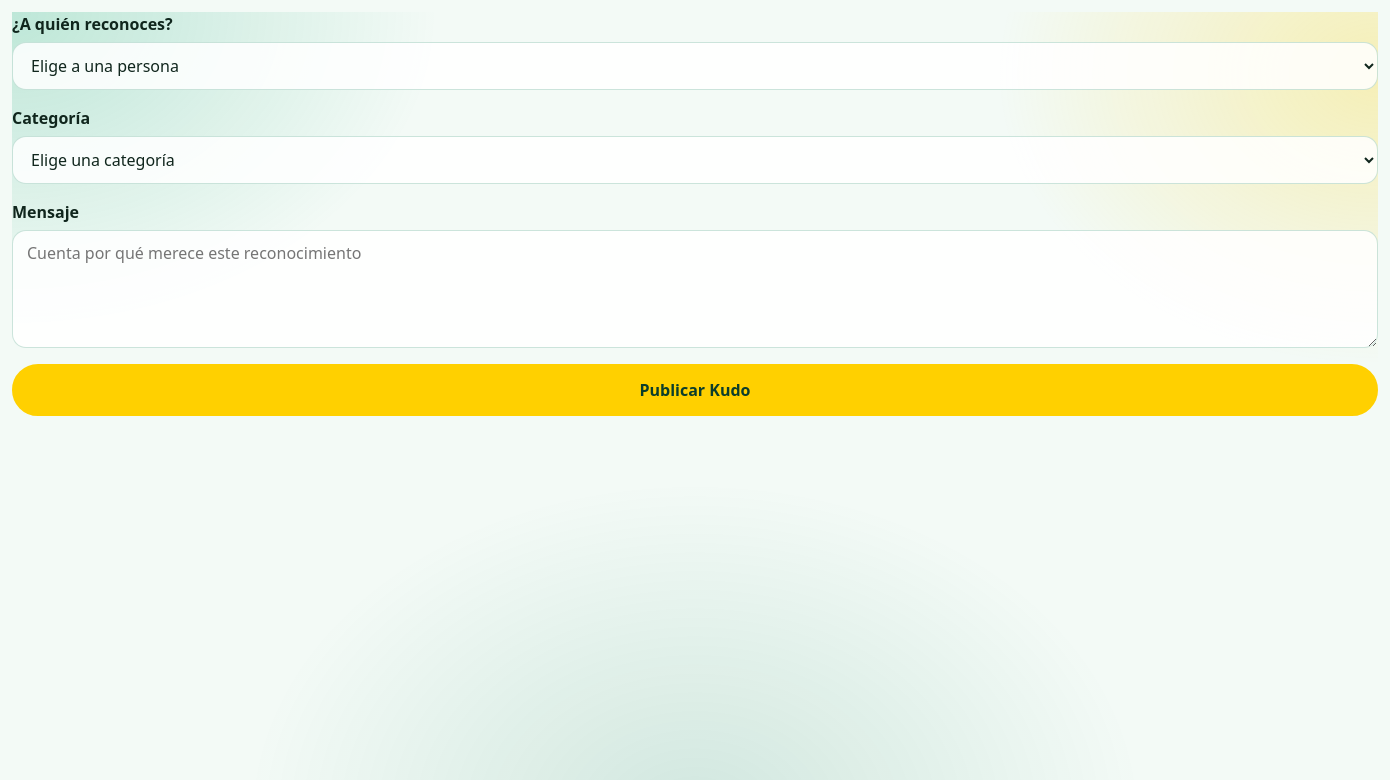
FormularioDePublicacion › da un mensaje general si la API rechaza con un motivo desconocido
Select "Beto Estudiante" in the dropdown labelled "¿A quién reconoces?" at (695, 66), box [12,42,1378,90]
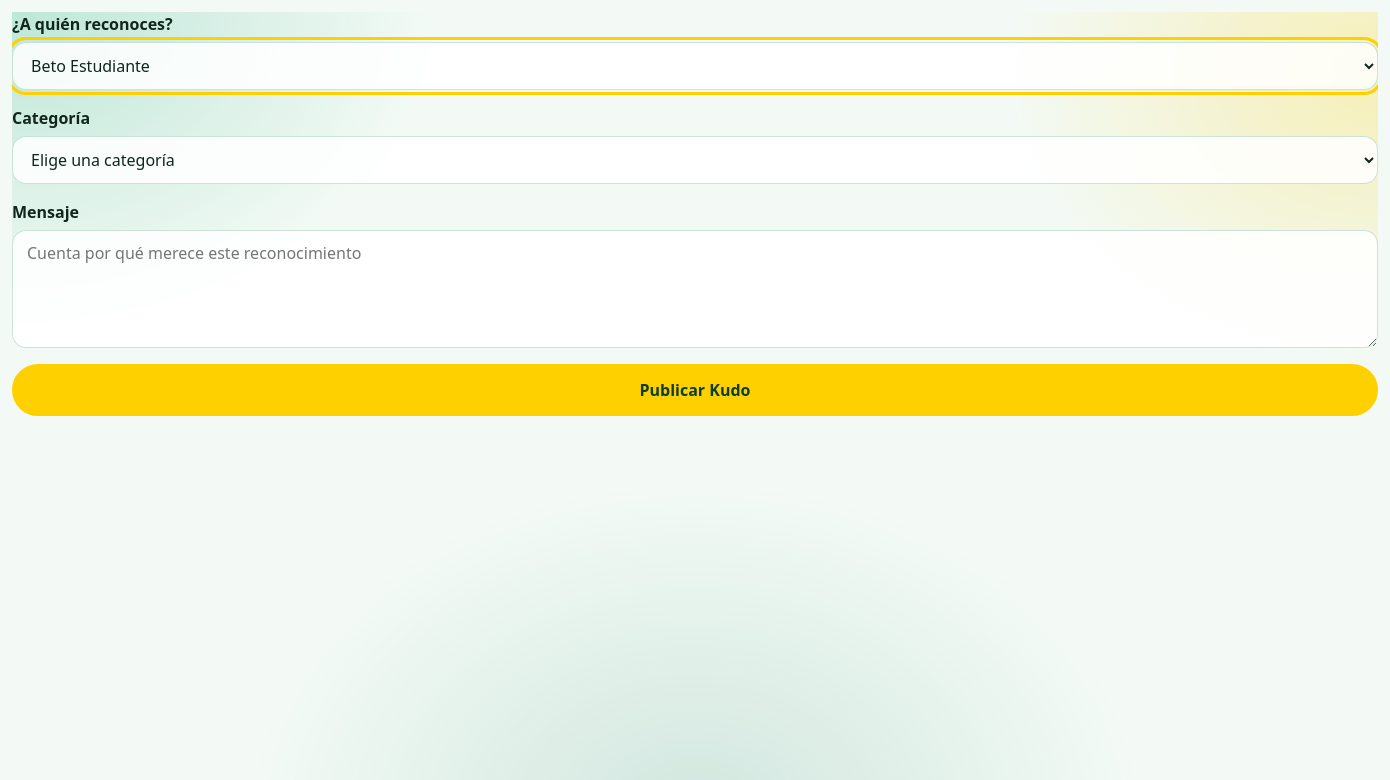
Select "Innovación" in the dropdown labelled "Categoría" at (695, 160), box [12,136,1378,184]
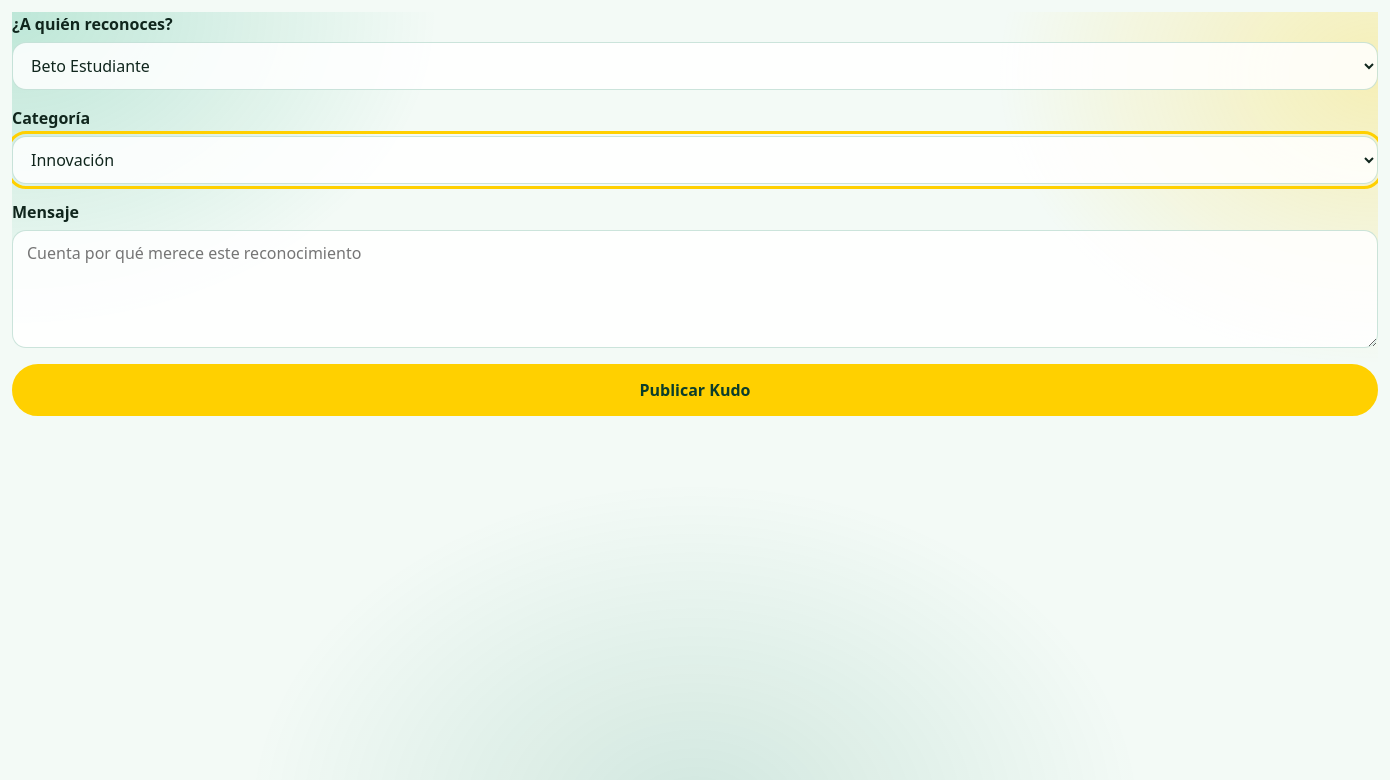
Type "Gracias por todo" into the text box labelled "Mensaje".
click(695, 289); type("Gracias por todo")  # box [12,230,1378,348]
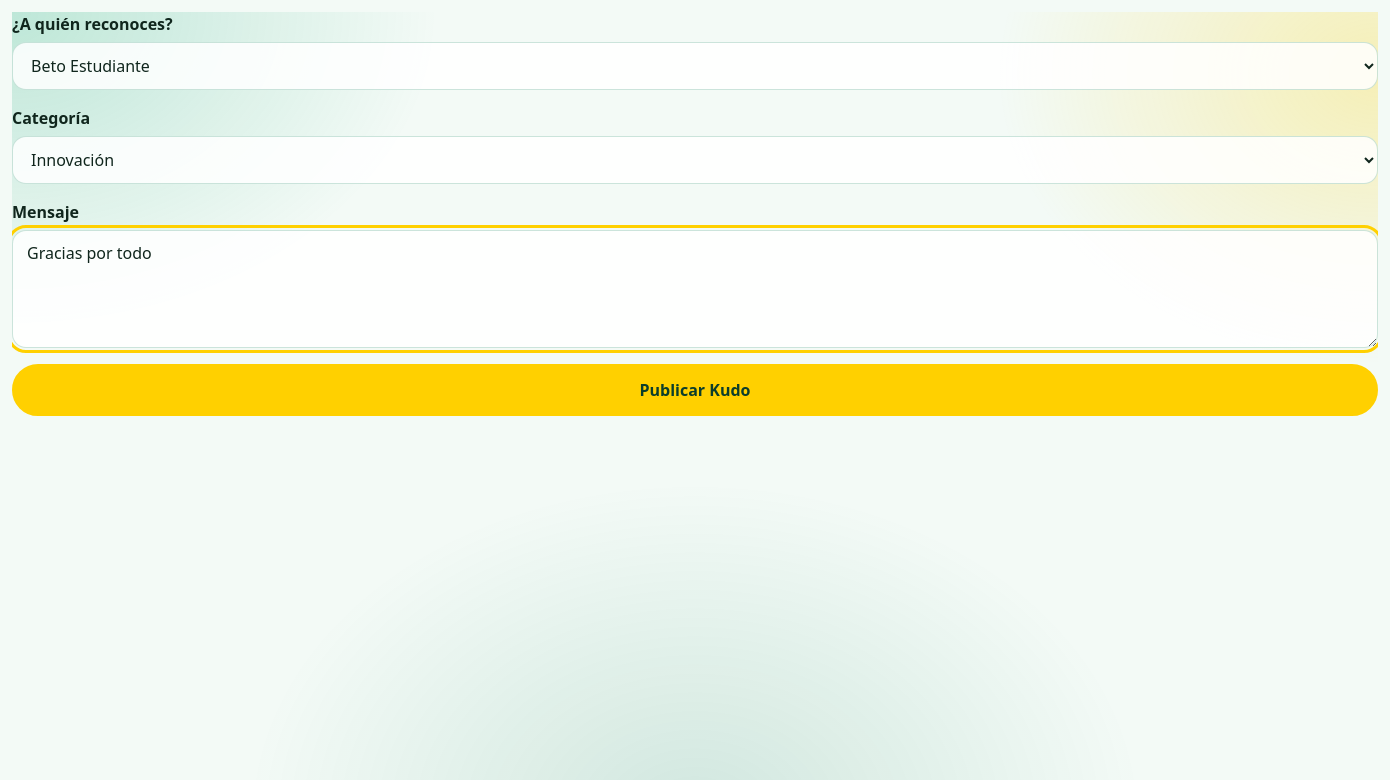
Click the button "Publicar Kudo".
click(695, 390)  # box [12,364,1378,416]
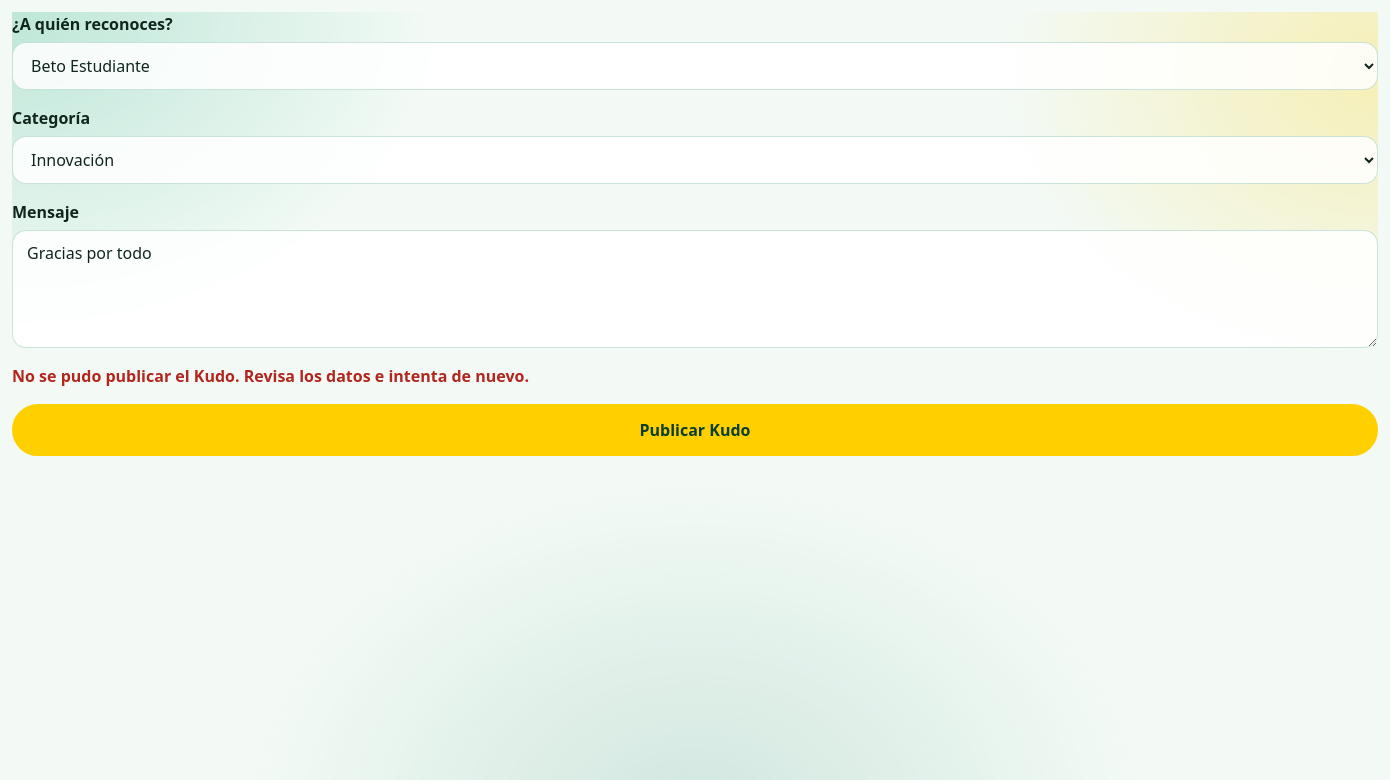
expect the message shows "No se pudo publicar el Kudo.": met, box [12,365,529,387]
